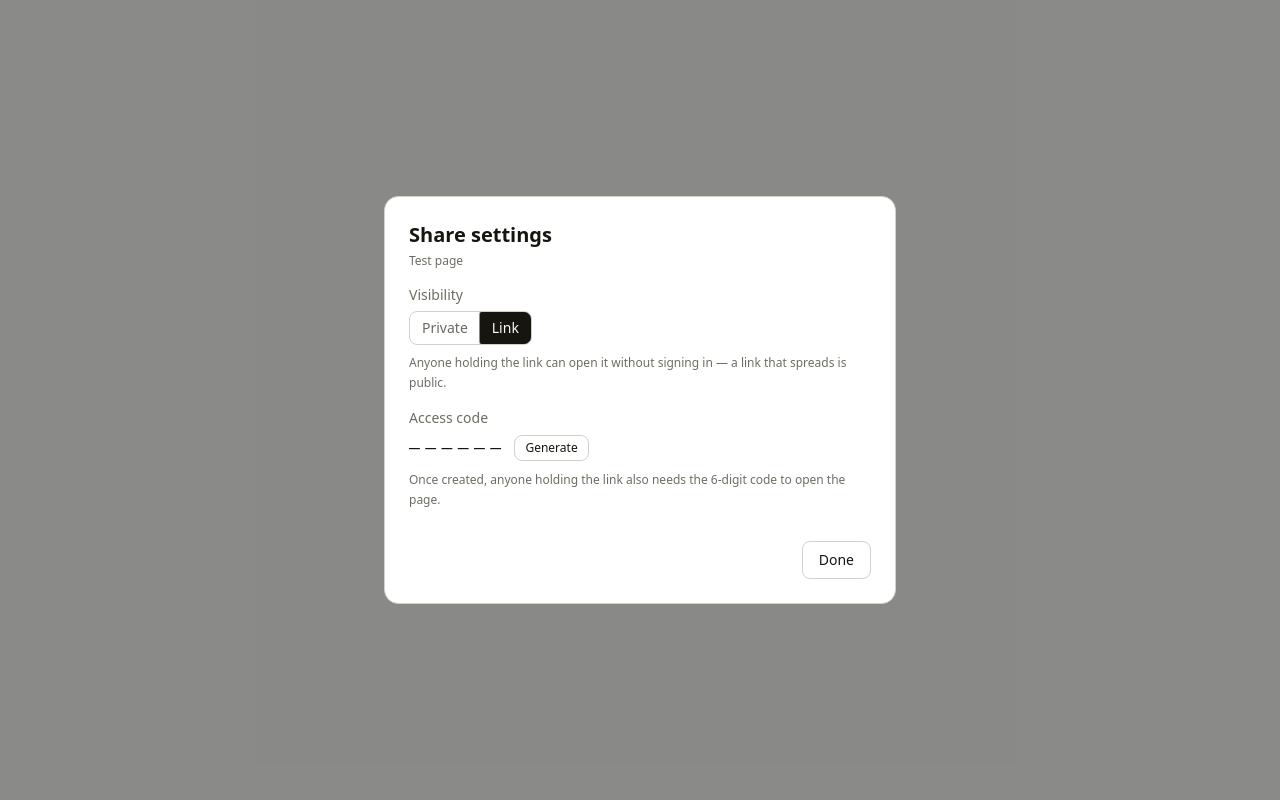
Test: ShareDialog › with no code only Generate shows, and it renders what the server returned
Expected: the button "Clear" is not shown
Expected: the button "Copy" is not shown
Click the button "Generate".
click(552, 448)  # box [514, 435, 589, 461]
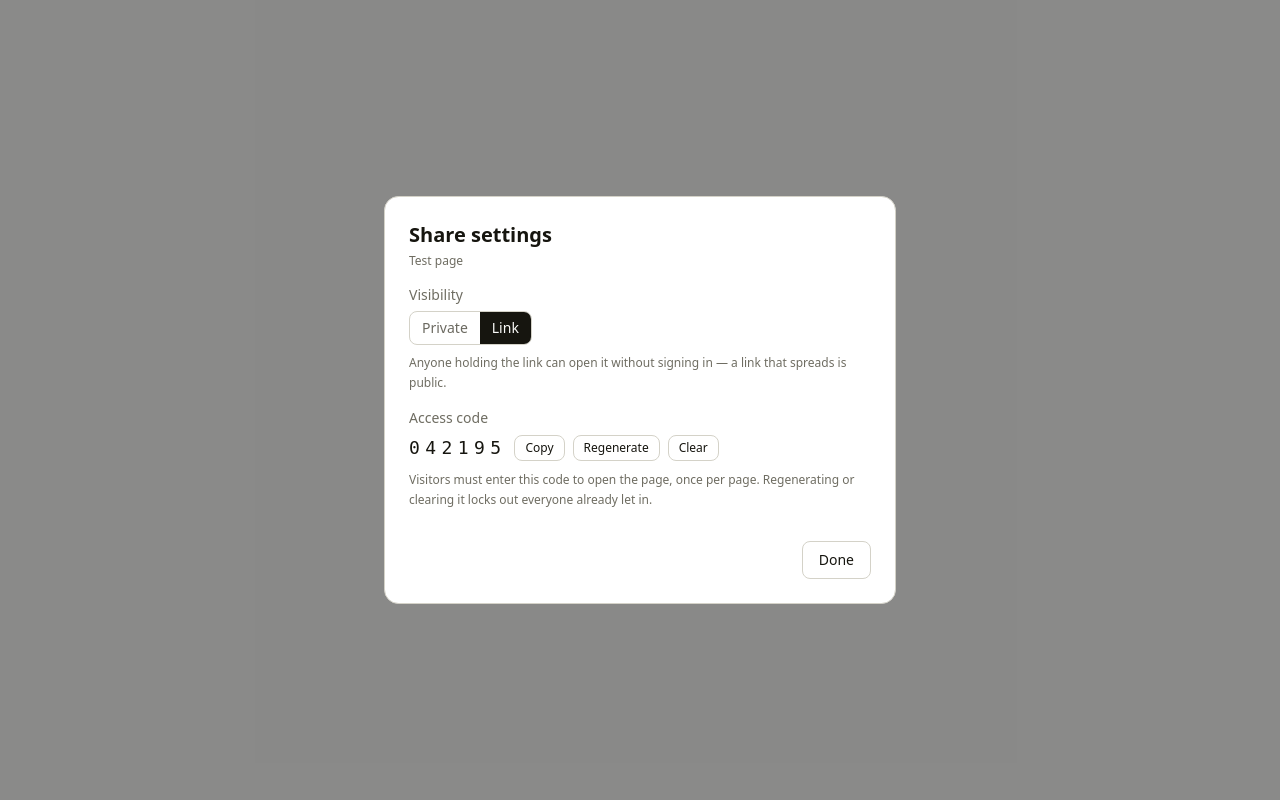
Now the text with test id "share-code" reads "042195", box [409, 437, 506, 458]
